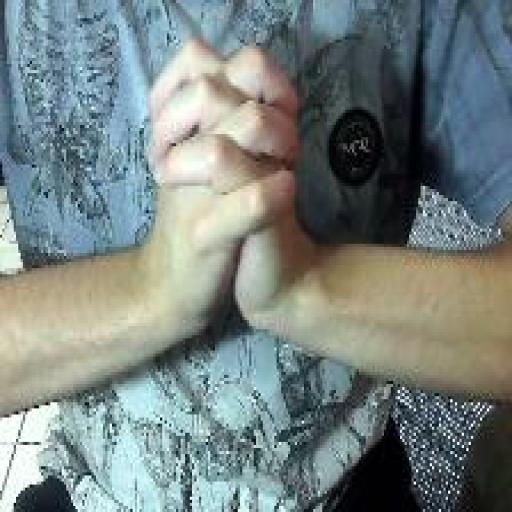Mi -snake-: (146, 34, 304, 348)
